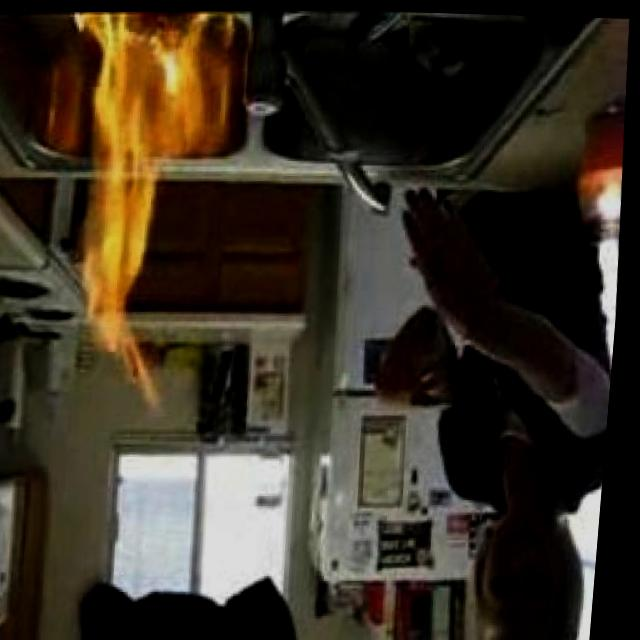Fire: (58, 6, 236, 421)
